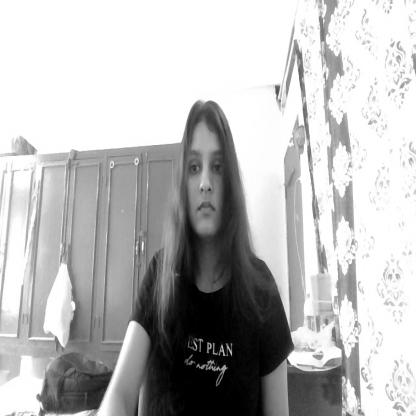Normal: (179, 98, 238, 248)
